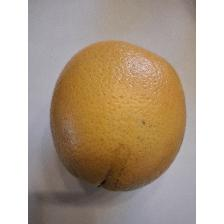Orange: (44, 37, 190, 192)
